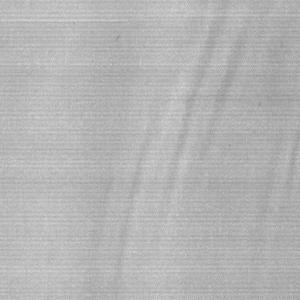Wrinkle: (116, 1, 248, 300), (259, 139, 300, 300)
